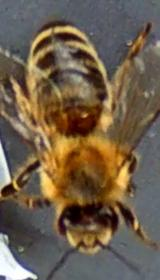varroa_mite: (64, 100, 98, 134)
